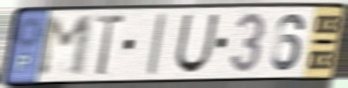3: (228, 11, 267, 76)
6: (270, 12, 306, 73)
I: (145, 11, 169, 78)
M: (35, 14, 95, 80)
T: (93, 14, 128, 79)
U: (173, 12, 221, 76)
